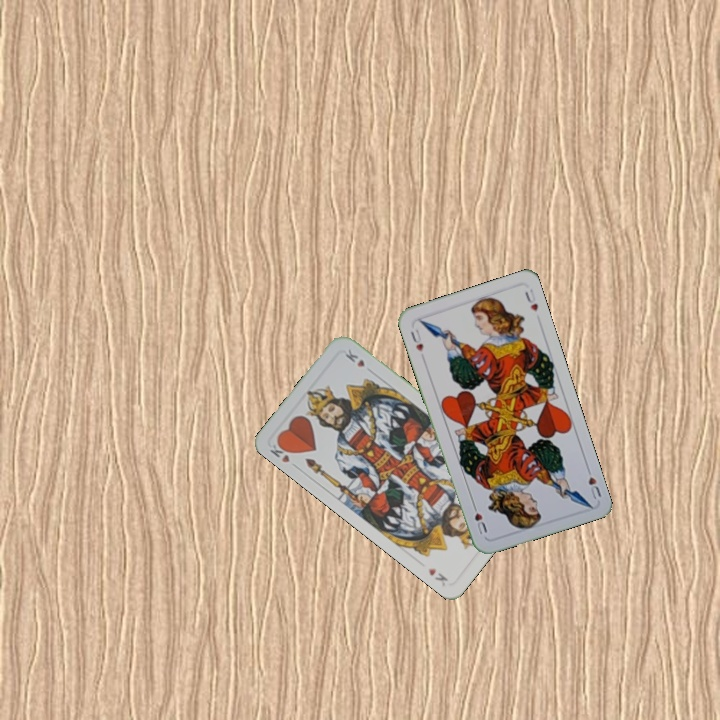HK: (266, 436, 301, 471)
HU: (582, 463, 604, 502), (406, 325, 426, 354)
